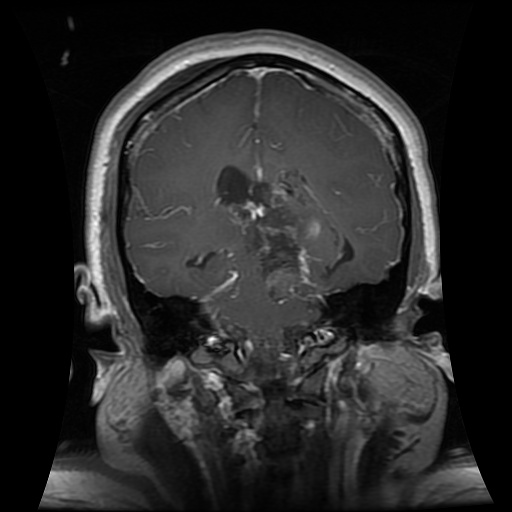glioma: (213, 164, 352, 303)
